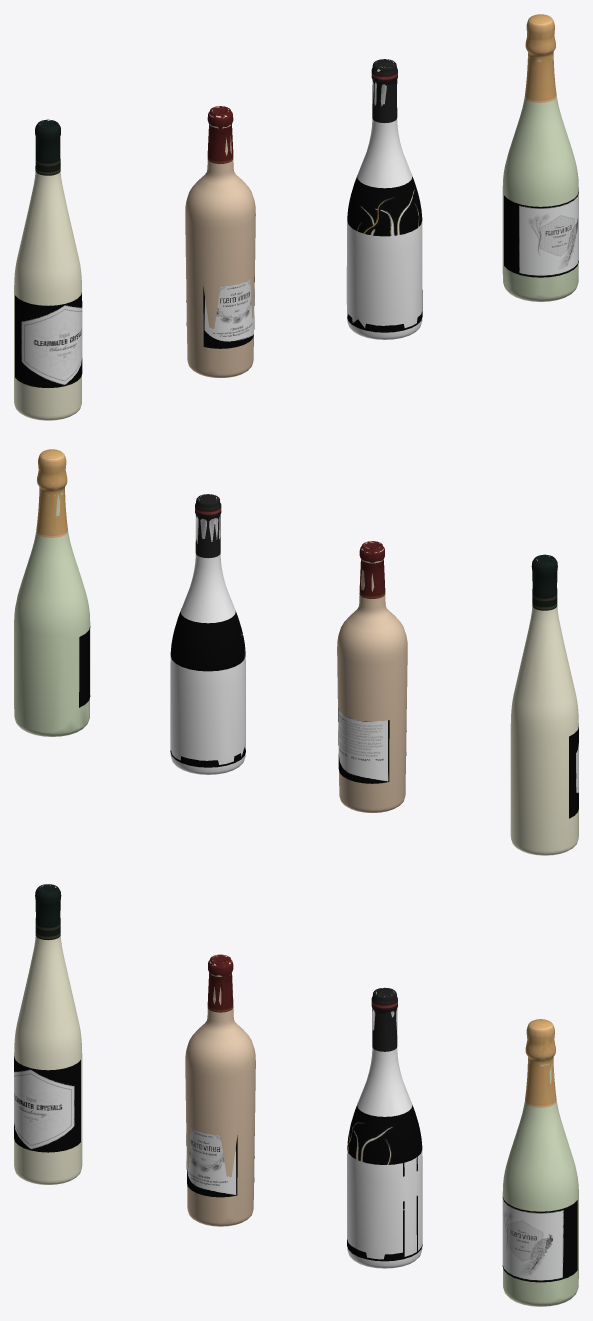
File: wine_bottles.glb
3 views of the same model, one above another, from view 1: azimuth 30°, elevation 25°; view 2: azimuth 150°, elevation 25°; view 3: azimuth 330°, elevation 25° (orthographic).
Parts seen in each view (by area): view 1: wine_bottles_01_bordeaux, wine_bottles_01_alsace, wine_bottles_01_champagne, wine_bottles_01_burgundy; view 2: wine_bottles_01_bordeaux, wine_bottles_01_burgundy, wine_bottles_01_champagne, wine_bottles_01_alsace; view 3: wine_bottles_01_bordeaux, wine_bottles_01_alsace, wine_bottles_01_champagne, wine_bottles_01_burgundy.
Boxes of the visible parts, bbox=[...] form: wine_bottles_01_bordeaux: bbox=[14, 14, 578, 420]; wine_bottles_01_alsace: bbox=[15, 292, 82, 387]; wine_bottles_01_champagne: bbox=[504, 191, 578, 277]; wine_bottles_01_burgundy: bbox=[347, 175, 422, 332]; wine_bottles_01_bordeaux: bbox=[14, 449, 578, 855]; wine_bottles_01_burgundy: bbox=[170, 608, 245, 767]; wine_bottles_01_champagne: bbox=[79, 626, 90, 707]; wine_bottles_01_alsace: bbox=[569, 727, 578, 818]; wine_bottles_01_bordeaux: bbox=[14, 884, 578, 1306]; wine_bottles_01_alsace: bbox=[14, 1056, 80, 1152]; wine_bottles_01_champagne: bbox=[502, 1196, 577, 1282]; wine_bottles_01_burgundy: bbox=[347, 1105, 422, 1261].
Bounding box in the file's own units: 0.6763 × 0.3314 × 0.0804.
Materials: 9 (6 with a texture image).
